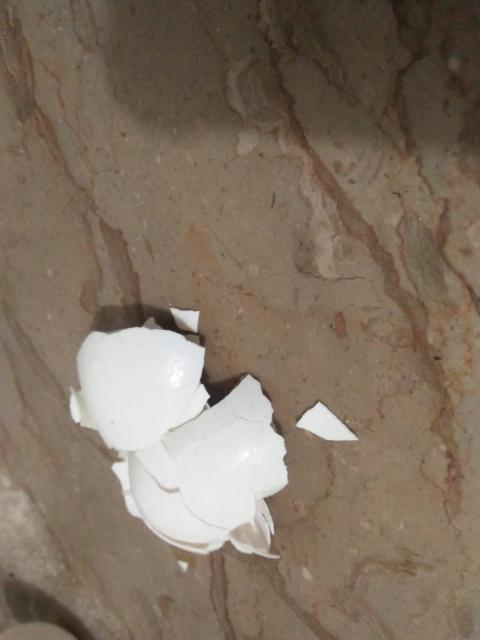Roto: (68, 316, 290, 559)
